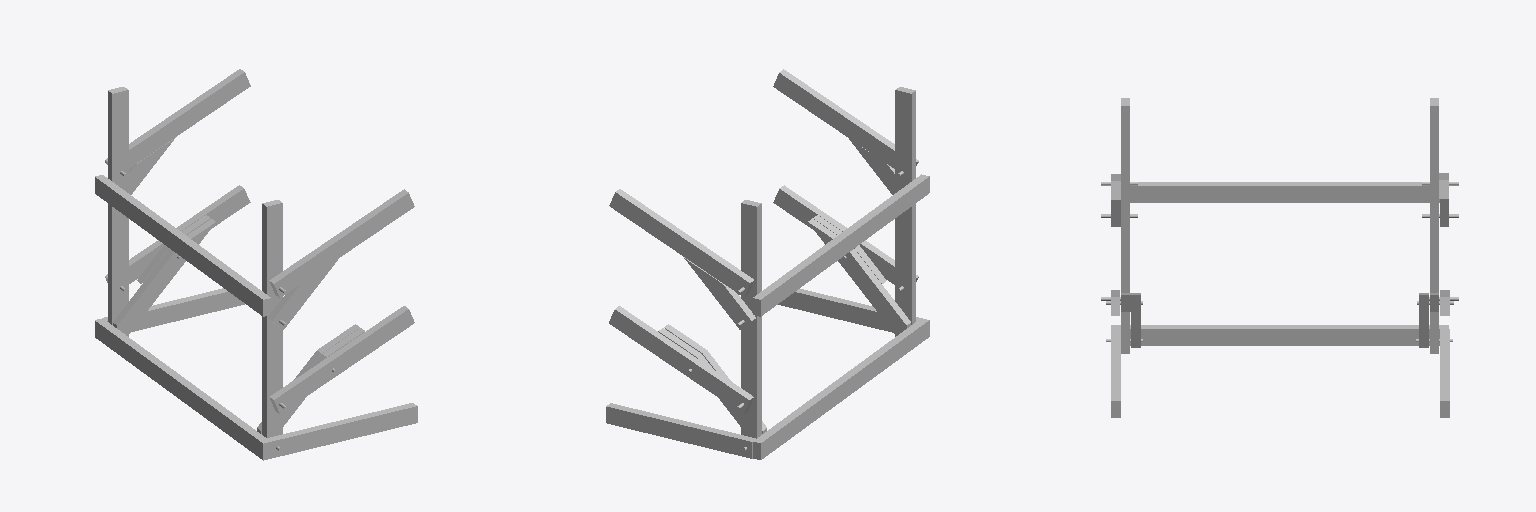
File: KayakRack.obj
3 renders of one model, left to right at view 1: azimuth 30°, elevation 25°; view 2: azimuth 150°, elevation 25°; view 3: azimuth 270°, elevation 25°, orthographic.
Visible parts, largest first — view 1: Cube.001_Cube.007, Cube, Cube.008_Cube.025, Cube.003_Cube.016, Cube.006_Cube.012, Cube.009_Cube.015, Cube.005_Cube.011, Cube.007_Cube.013, Cube.013_Cube.005, Cube.004_Cube.010, Cube.012_Cube.023, Cube.010_Cube.017 (+2 smaller); view 2: Cube.001_Cube.007, Cube, Cube.003_Cube.016, Cube.008_Cube.025, Cube.007_Cube.013, Cube.012_Cube.023, Cube.004_Cube.010, Cube.006_Cube.012, Cube.002_Cube.001, Cube.005_Cube.011, Cube.009_Cube.015, Cube.011_Cube.021 (+2 smaller); view 3: Cube.001_Cube.007, Cube, Cube.003_Cube.016, Cube.008_Cube.025, Cube.004_Cube.010, Cube.005_Cube.011, Cube.002_Cube.001, Cube.013_Cube.005.
Part boxes in pixels (bbox=[...]): Cube.001_Cube.007: bbox=[95, 175, 270, 316]; Cube: bbox=[95, 318, 270, 460]; Cube.008_Cube.025: bbox=[108, 87, 128, 336]; Cube.003_Cube.016: bbox=[262, 200, 282, 437]; Cube.006_Cube.012: bbox=[269, 189, 414, 297]; Cube.009_Cube.015: bbox=[270, 306, 414, 413]; Cube.005_Cube.011: bbox=[267, 403, 417, 458]; Cube.007_Cube.013: bbox=[105, 69, 250, 168]; Cube.013_Cube.005: bbox=[113, 219, 215, 335]; Cube.004_Cube.010: bbox=[103, 288, 244, 331]; Cube.012_Cube.023: bbox=[105, 185, 250, 283]; Cube.010_Cube.017: bbox=[268, 259, 337, 329]; Cube.001_Cube.007: bbox=[753, 174, 929, 316]; Cube: bbox=[753, 318, 929, 459]; Cube.003_Cube.016: bbox=[895, 87, 915, 336]; Cube.008_Cube.025: bbox=[741, 200, 761, 438]; Cube.007_Cube.013: bbox=[609, 189, 754, 296]; Cube.012_Cube.023: bbox=[609, 306, 753, 414]; Cube.004_Cube.010: bbox=[606, 403, 755, 458]; Cube.006_Cube.012: bbox=[773, 69, 918, 168]; Cube.002_Cube.001: bbox=[808, 218, 910, 335]; Cube.005_Cube.011: bbox=[778, 289, 920, 332]; Cube.009_Cube.015: bbox=[773, 185, 918, 284]; Cube.011_Cube.021: bbox=[684, 257, 755, 329]; Cube.001_Cube.007: bbox=[1130, 182, 1439, 202]; Cube: bbox=[1111, 325, 1448, 345]; Cube.003_Cube.016: bbox=[1121, 98, 1129, 353]; Cube.008_Cube.025: bbox=[1430, 98, 1438, 353]; Cube.004_Cube.010: bbox=[1440, 329, 1449, 417]; Cube.005_Cube.011: bbox=[1111, 329, 1120, 417]; Cube.002_Cube.001: bbox=[1131, 293, 1140, 347]; Cube.013_Cube.005: bbox=[1419, 293, 1428, 347].
Size of the model in its own units: 0.9653 by 1.49 by 1.94.